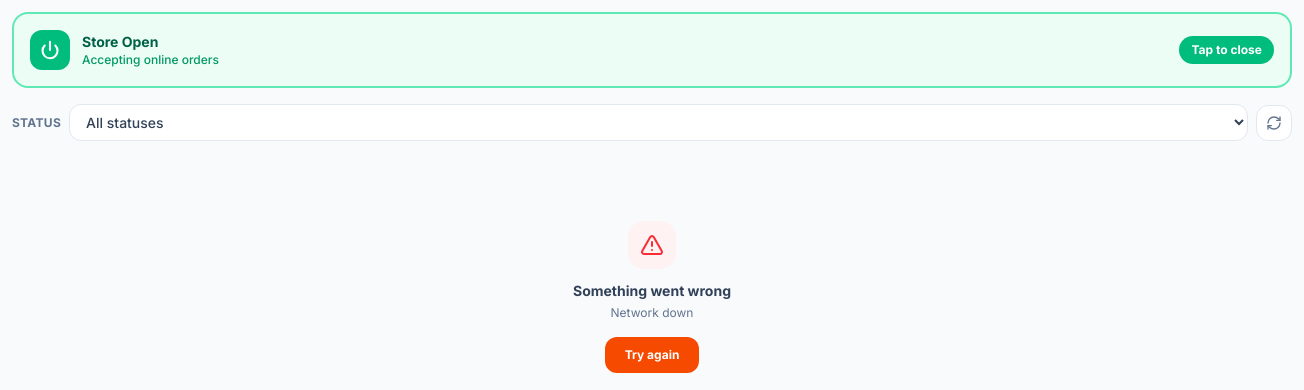
Test case: OrdersFeed Component › should show an error state with retry when the feed fails to load
Check: the text "Network down" is shown, box [611,305,693,321]
Note: Retry reloads the feed (second call resolves to [])
Click the button "Try again".
click(652, 355)  # box [605,337,699,373]
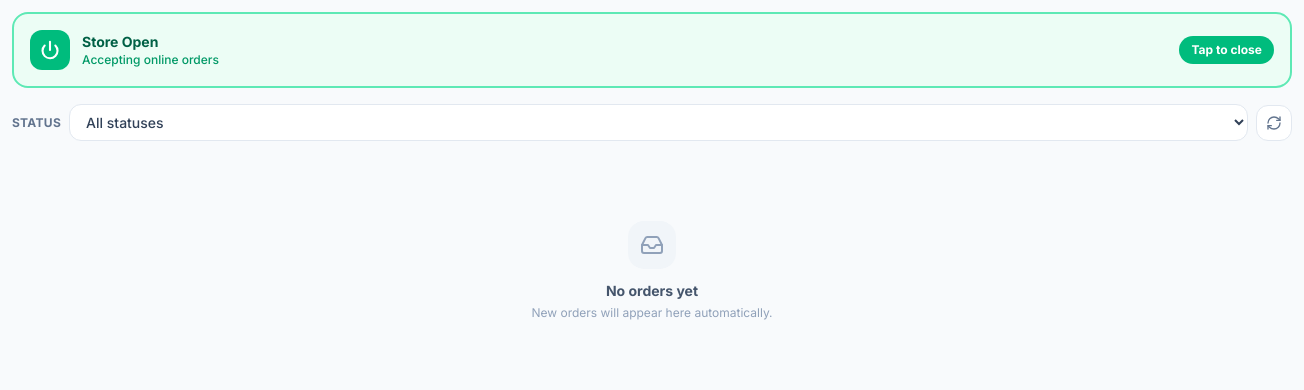
Check: the text "No orders yet" is shown, box [606,281,698,301]
